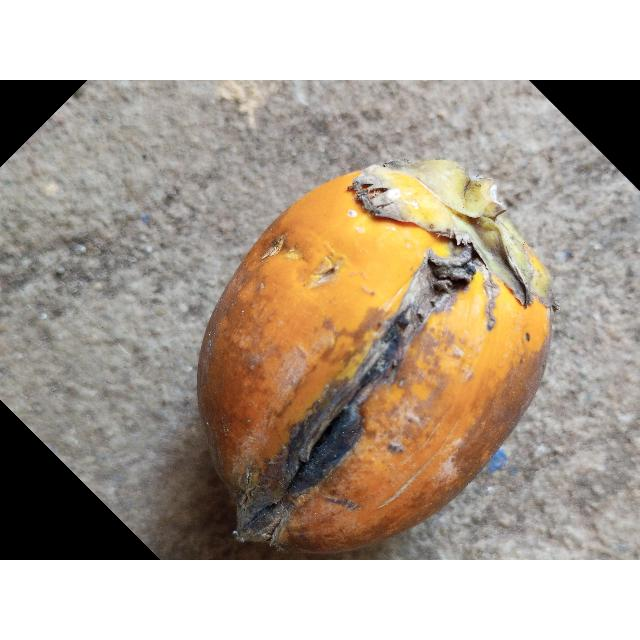damaged: (194, 160, 552, 557)
